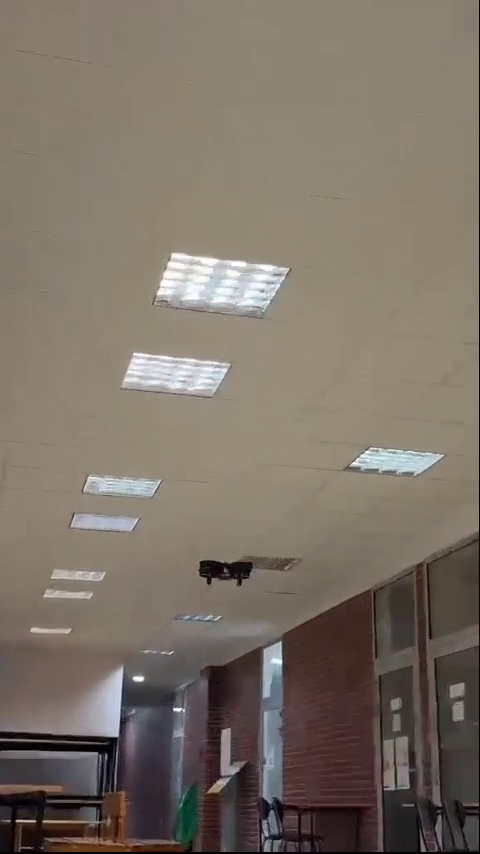drone: (197, 556, 255, 590)
